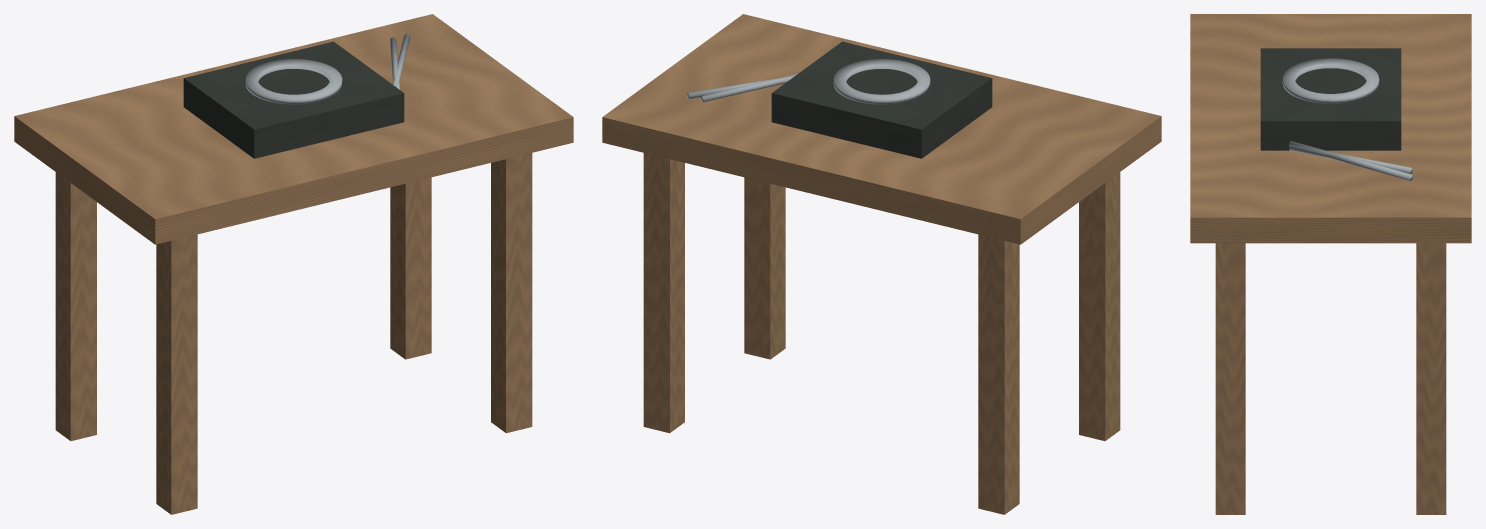
File: casting.glb
3 views of the same model, side by side, from view 1: azimuth 30°, elevation 25°; view 2: azimuth 150°, elevation 25°; view 3: azimuth 270°, elevation 25° (orthographic).
Parts seen in each view (by area): view 1: casting top, mold block, leg.002, leg, leg.001, leg.003, gear mold cavity; view 2: casting top, mold block, leg.003, leg.001, leg, leg.002, gear mold cavity; view 3: casting top, mold block, leg.002, leg.003, gear mold cavity, tongs left, tongs right.
Part boxes in pixels (left/top/right/bottom): casting top: left=14, top=14, right=573, bottom=244; mold block: left=183, top=41, right=404, bottom=158; leg.002: left=491, top=153, right=532, bottom=433; leg: left=156, top=234, right=197, bottom=514; leg.001: left=55, top=172, right=96, bottom=440; leg.003: left=390, top=177, right=431, bottom=359; gear mold cavity: left=245, top=59, right=342, bottom=104; casting top: left=602, top=14, right=1161, bottom=244; mold block: left=771, top=41, right=992, bottom=158; leg.003: left=643, top=153, right=684, bottom=433; leg.001: left=978, top=234, right=1019, bottom=514; leg: left=1079, top=172, right=1120, bottom=440; leg.002: left=744, top=177, right=785, bottom=359; gear mold cavity: left=833, top=59, right=930, bottom=104; casting top: left=1190, top=14, right=1471, bottom=243; mold block: left=1260, top=48, right=1401, bottom=150; leg.002: left=1215, top=243, right=1245, bottom=514; leg.003: left=1416, top=243, right=1446, bottom=514; gear mold cavity: left=1282, top=58, right=1379, bottom=103; tongs left: left=1289, top=141, right=1413, bottom=180; tongs right: left=1289, top=144, right=1412, bottom=173.
Size of the model in its own units: 1.2 by 0.957 by 0.7.
3 materials, 3 textured.
